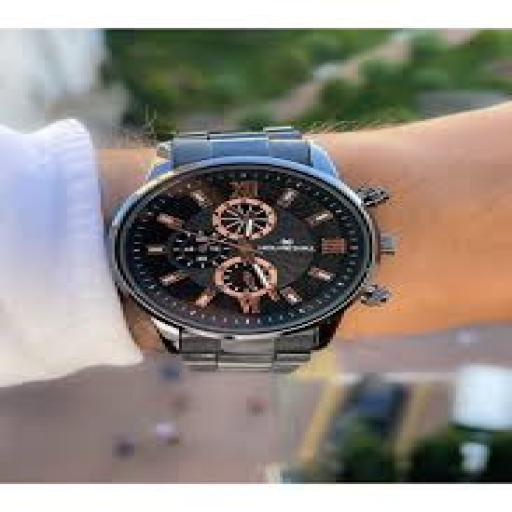KolSaati: (100, 93, 414, 392)
